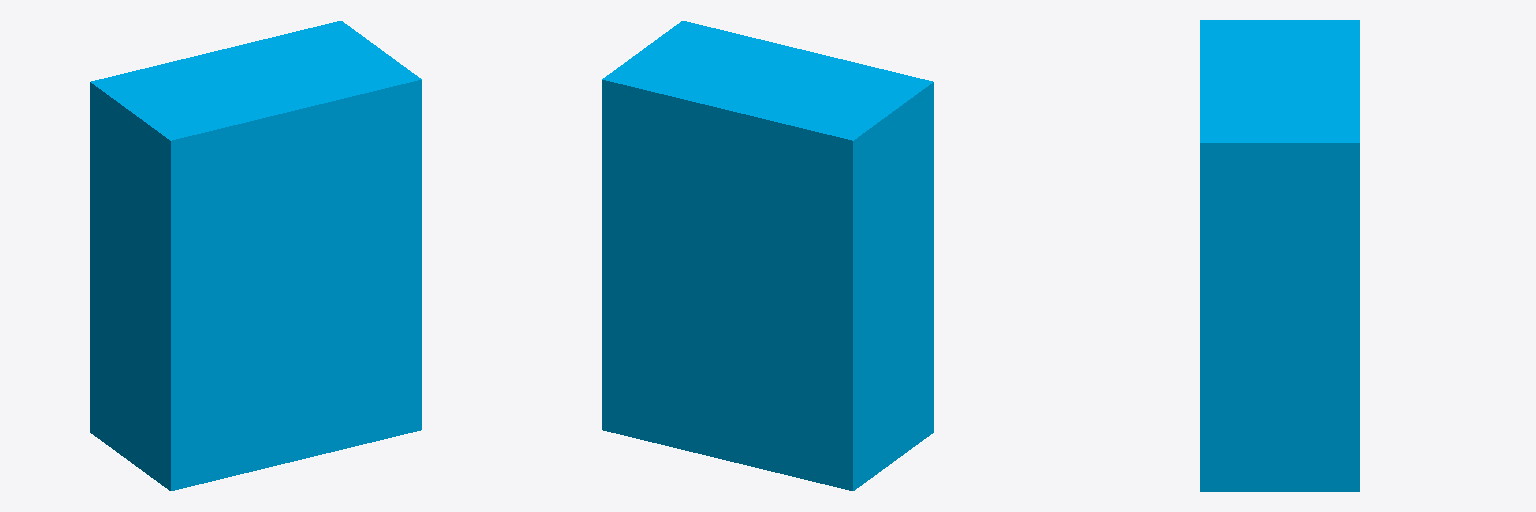
The robot description file, URDF, robot "drake_soda":
<?xml version="1.0"?>
<robot name="drake_soda">
  <link name="drake_soda">
    <inertial>
      <!--origin xyz="0 0 0" rpy="0 0 0" /-->
      <mass value="0.068" />
      <inertia ixx="0.0000600666644"  ixy="0" ixz="0" iyy="0.0000957666644" iyz="0"
          izz="0.000560592" />
    </inertial>
    <visual>
      <!--origin xyz="0 0 0" rpy="0 0 0" /-->
      <geometry>
        <box size="0.09 0.05 0.12" />
      </geometry>
      <material name="blue">
        <color rgba="0.0 0.75 1.0 1" />
      </material>
    </visual>
    <!--
      This places contact spheres on the corners of the visual box and a
      *slightly* smaller inset contact box (centered on the visual origin). This
      accounts for issues in the contact computation providing stable table
      contact *and* supports grasping.

      When the box is in stable contact with the ground plane, the corner
      spheres will provide fixed contact points (simulating distributed contact
      points around the face).  However, for arbitrary grip configuration, the
      slightly inset box will provide contact with a *slight* offset (in this
      case a deviation of 0.0005 m from the visual surface).
     -->
    <collision>
      <geometry>
        <box size="0.089 0.049 0.119" />
      </geometry>
    </collision>

    <collision>
      <origin xyz="-0.045 -0.025 -0.06" rpy="0 0 0"/>
      <geometry>
        <sphere radius="1e-7"/>
      </geometry>
    </collision>
    <collision>
      <origin xyz="-0.045 0.025 -0.06" rpy="0 0 0"/>
      <geometry>
        <sphere radius="1e-7"/>
      </geometry>
    </collision>
    <collision>
      <origin xyz="0.045 0.025 -0.06" rpy="0 0 0"/>
      <geometry>
        <sphere radius="1e-7"/>
      </geometry>
    </collision>
    <collision>
      <origin xyz="0.045 -0.025 -0.06" rpy="0 0 0"/>
      <geometry>
        <sphere radius="1e-7"/>
      </geometry>
    </collision>

    <collision>
      <origin xyz="-0.045 -0.025 0.06" rpy="0 0 0"/>
      <geometry>
        <sphere radius="1e-7"/>
      </geometry>
    </collision>
    <collision>
      <origin xyz="-0.045 0.025 0.06" rpy="0 0 0"/>
      <geometry>
        <sphere radius="1e-7"/>
      </geometry>
    </collision>
    <collision>
      <origin xyz="0.045 0.025 0.06" rpy="0 0 0"/>
      <geometry>
        <sphere radius="1e-7"/>
      </geometry>
    </collision>
    <collision>
      <origin xyz="0.045 -0.025 0.06" rpy="0 0 0"/>
      <geometry>
        <sphere radius="1e-7"/>
      </geometry>
    </collision>
   </link>
</robot>

--- Render facts (derived) ---
Views: 3 orthographic renders of the robot side by side, from view 1: azimuth 30°, elevation 25°; view 2: azimuth 150°, elevation 25°; view 3: azimuth 270°, elevation 25°.
Model drake_soda with 1 links and 0 joints (none), rooted at drake_soda, posed every joint at zero.
Links seen in each view (by area): view 1: drake_soda; view 2: drake_soda; view 3: drake_soda.
Boxes of the visible links, left/top/right/bottom form: drake_soda: left=90, top=21, right=421, bottom=490; drake_soda: left=602, top=21, right=933, bottom=490; drake_soda: left=1200, top=20, right=1359, bottom=491.
Bounding box of the posed robot: 0.09 × 0.05 × 0.12 m (x, y, z).
Geometry: primitives only (box / cylinder / sphere), no mesh files.